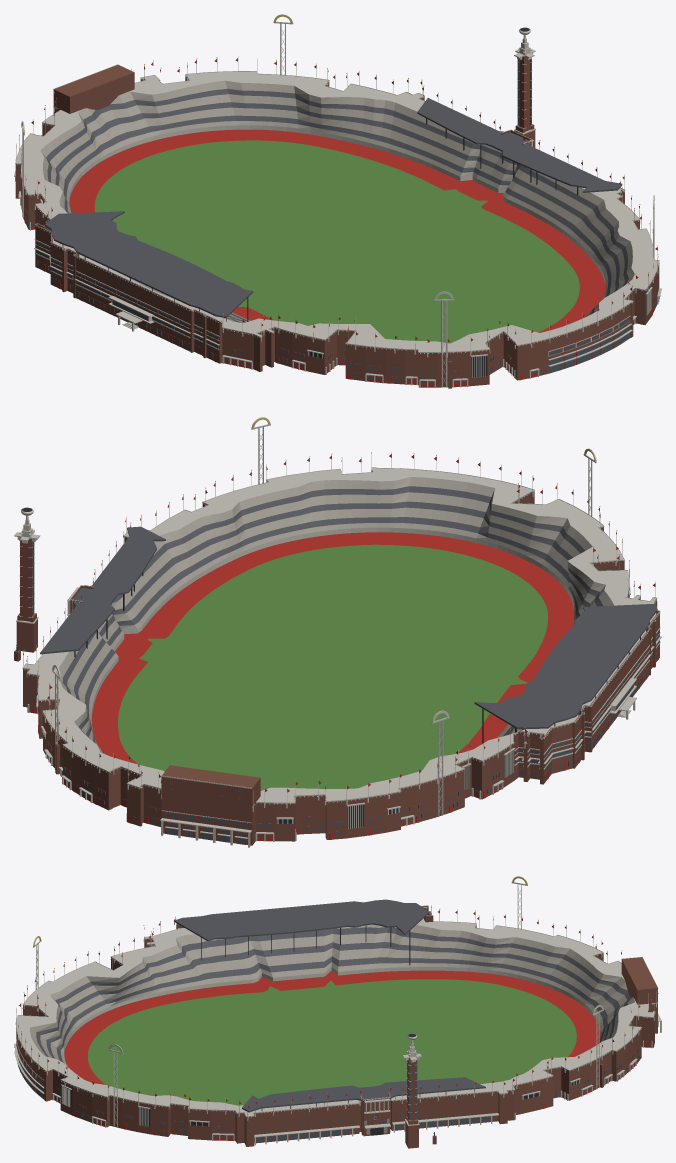
Rendered from olympisch-stadion.glb.
The picture shows the model from 3 angles, top to bottom: view 1: azimuth 30°, elevation 25°; view 2: azimuth 150°, elevation 25°; view 3: azimuth 270°, elevation 25°; orthographic projection. The views are drawn at different scales.
Parts seen in each view (by area): view 1: olympisch-stadion; view 2: olympisch-stadion; view 3: olympisch-stadion.
Part boxes in pixels (x1,y1,x2,y2): olympisch-stadion: (14,14,661,388); olympisch-stadion: (14,417,661,847); olympisch-stadion: (14,876,661,1148).
Size of the model in its own units: 189 by 46 by 246.
